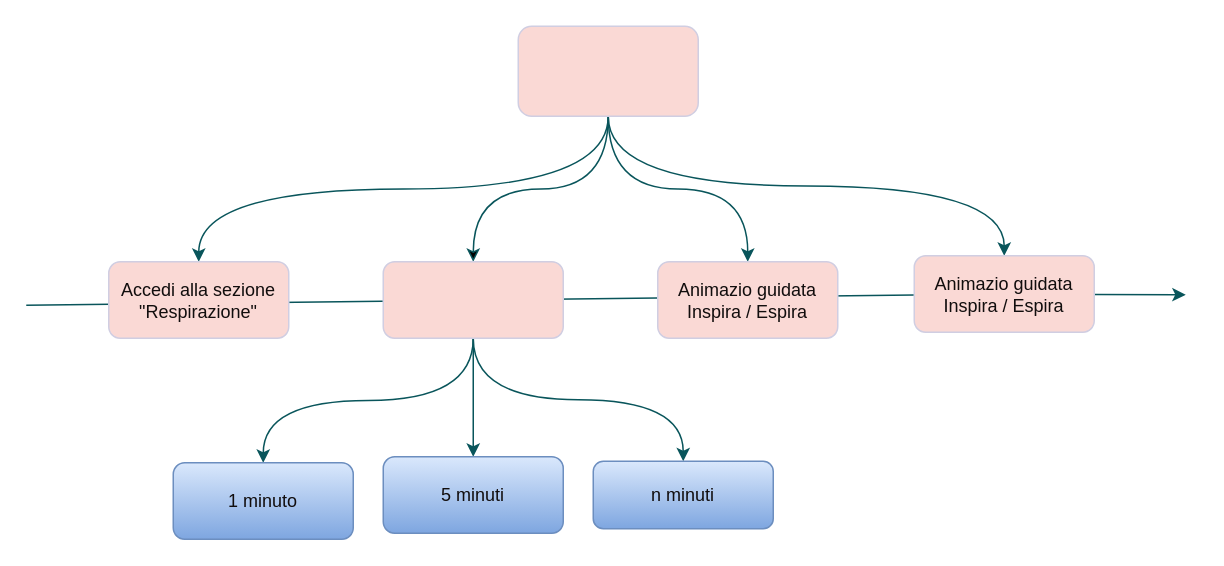
The diagram is 1224 pixels wide and 566 high, and some of its shapes have lost their labels. The shapes that lost their labels are listed below. From the top down, each one's box as (x1, y1, x2, y2) in pixels, then its label:
(517, 25, 698, 116): Respirazione
(382, 260, 563, 338): Scegliere la durata
